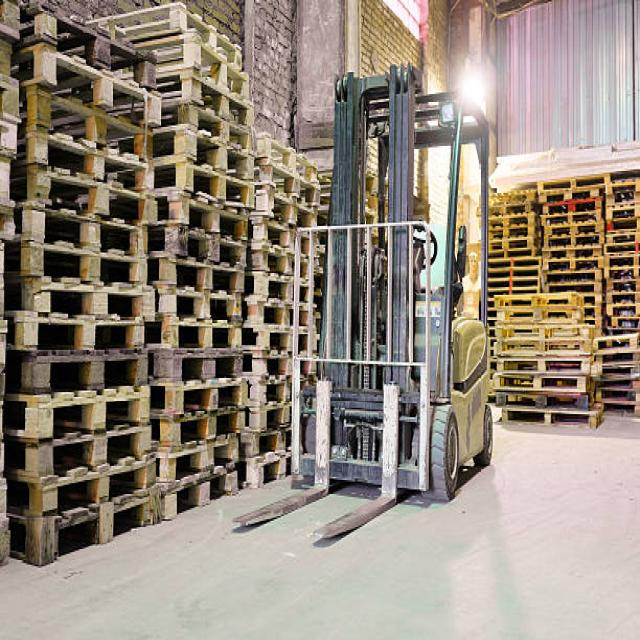Wooden-Pallets: (32, 476, 170, 580), (23, 40, 165, 138), (23, 131, 157, 205), (26, 385, 155, 449), (12, 298, 150, 354), (18, 204, 151, 260), (176, 66, 258, 140), (166, 452, 238, 528), (164, 424, 241, 493), (180, 184, 252, 251), (169, 284, 249, 338), (166, 344, 245, 395), (494, 342, 590, 380), (492, 288, 582, 312), (534, 171, 610, 193), (539, 252, 606, 271), (542, 211, 602, 227)
